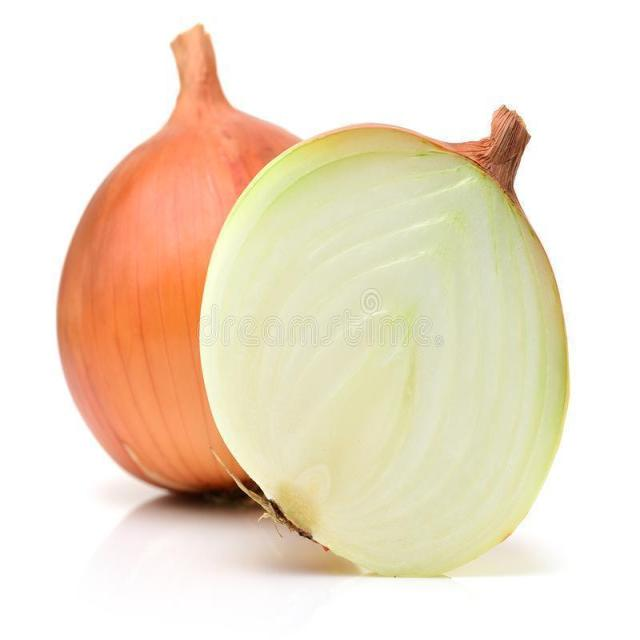Onion: (198, 108, 572, 577), (58, 20, 306, 501)
